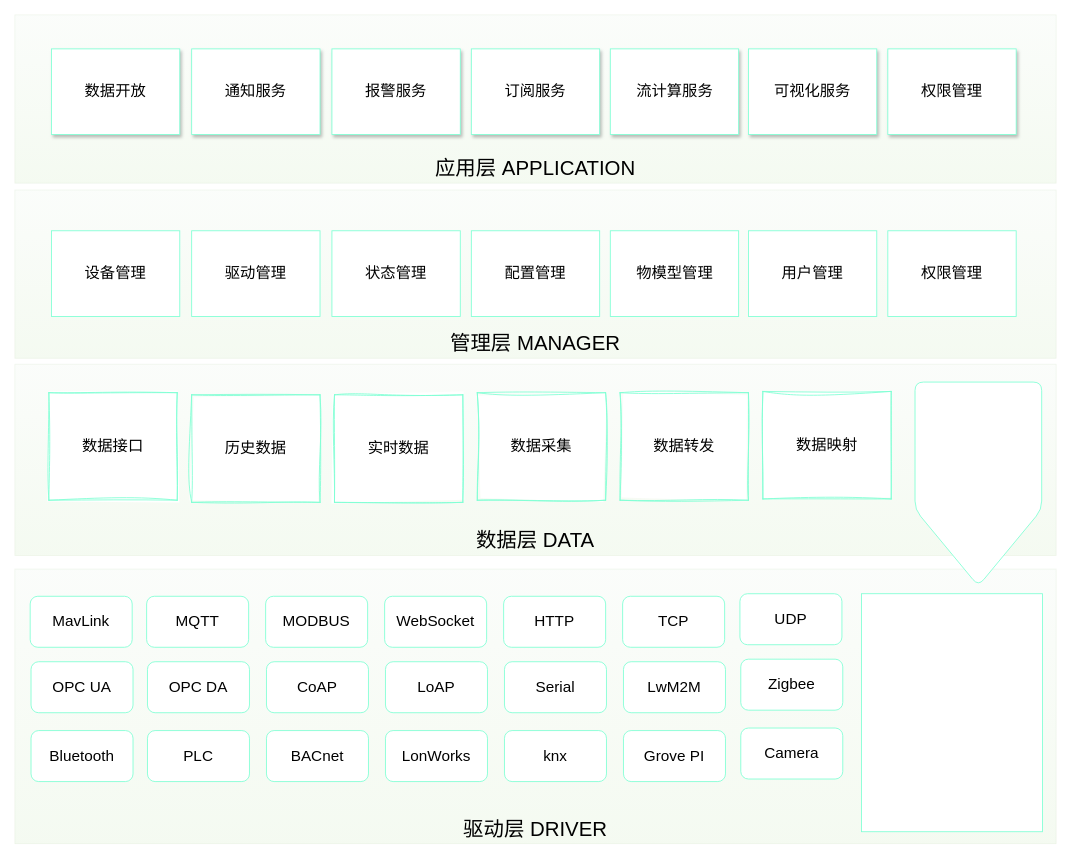
This 1071x859 diagram has some shape labels left out. The centre of each missing label's shape, as x and y in pixels:
"指令交互 采集、控制等指令" belongs at point 978,483.
"驱动SDK (用于快速开发 和 拓展其他驱动)" belongs at point 952,712.
